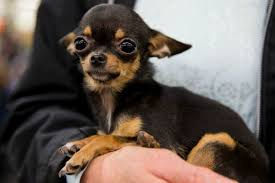chihuahua: (47, 2, 274, 176)
